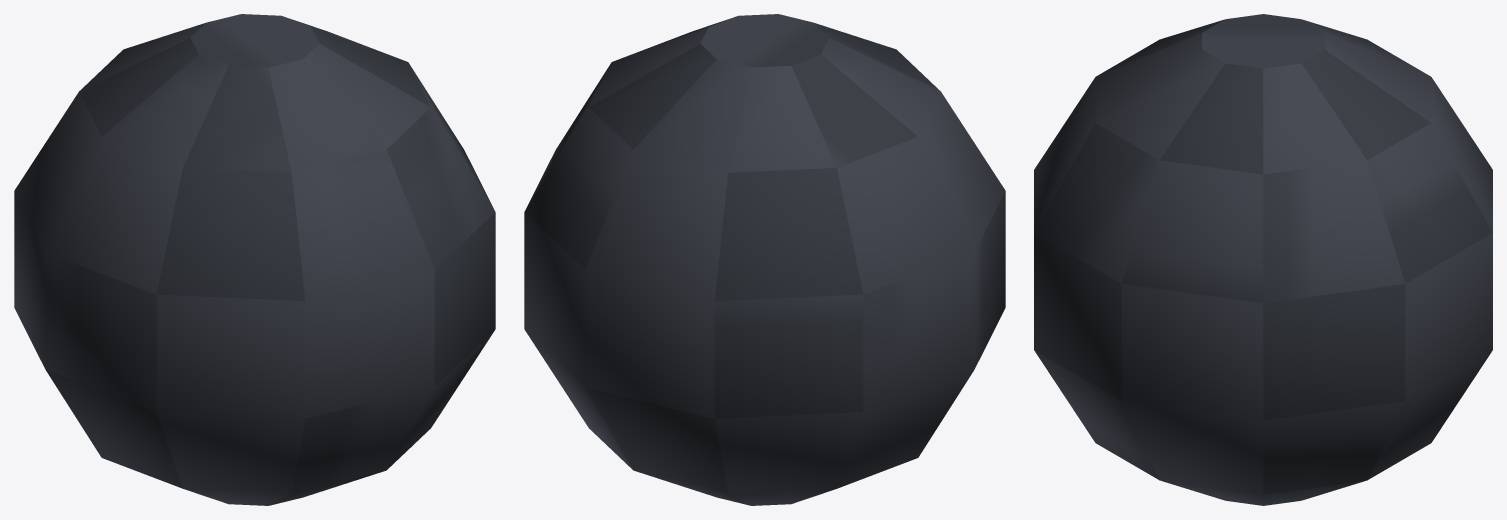
Rendered from SM_Prop_Cannonball_HQ.glb.
3 views of the same model, side by side, from view 1: azimuth 30°, elevation 25°; view 2: azimuth 150°, elevation 25°; view 3: azimuth 270°, elevation 25° (orthographic).
Parts seen in each view (by area): view 1: SM_Prop_Cannonball_HQ; view 2: SM_Prop_Cannonball_HQ; view 3: SM_Prop_Cannonball_HQ.
Part boxes in pixels (box(x1,y1,x2,y2)): SM_Prop_Cannonball_HQ: box(14, 14, 495, 505); SM_Prop_Cannonball_HQ: box(524, 14, 1005, 505); SM_Prop_Cannonball_HQ: box(1034, 14, 1492, 505).
Size of the model in its own units: 0.2705 by 0.2705 by 0.2572.
1 material, 1 textured.
